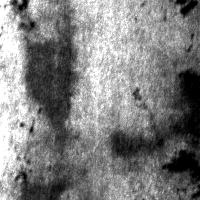patches: (21, 23, 75, 146), (105, 87, 166, 155), (53, 151, 119, 200), (164, 65, 200, 149), (16, 163, 71, 200), (160, 150, 200, 184), (171, 1, 196, 21)
